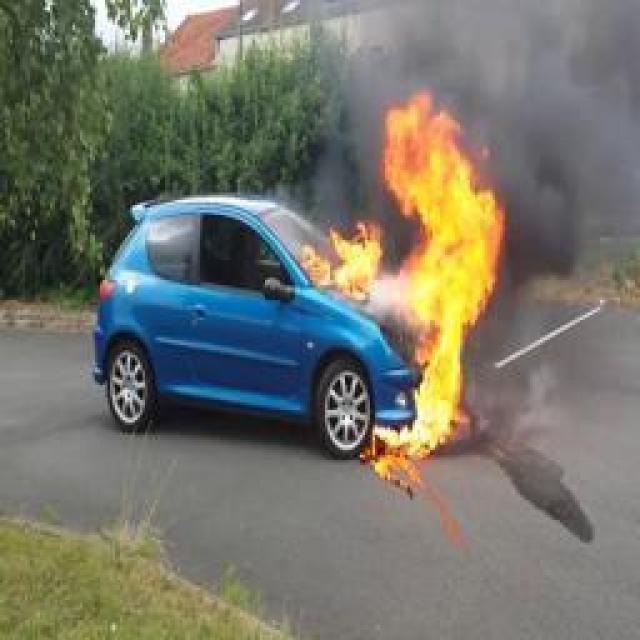Fire: (296, 88, 504, 458)
